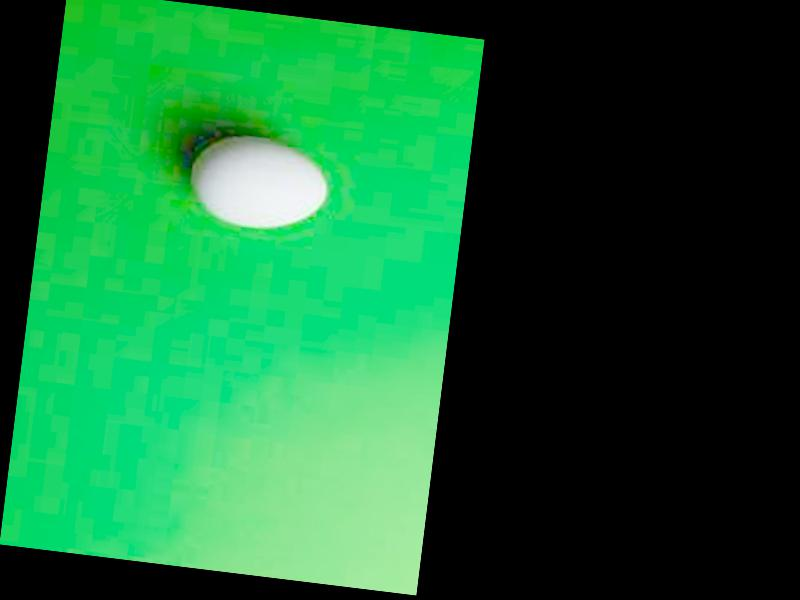Eggs: (186, 130, 333, 234)
